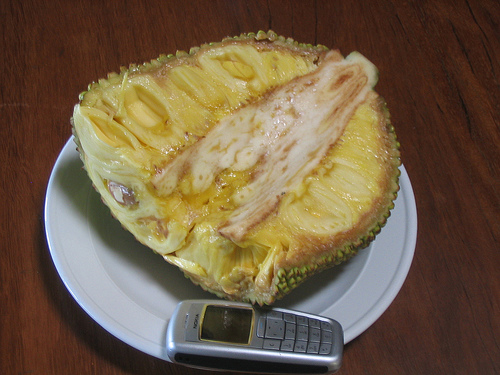jackfruit: (69, 31, 403, 303)
